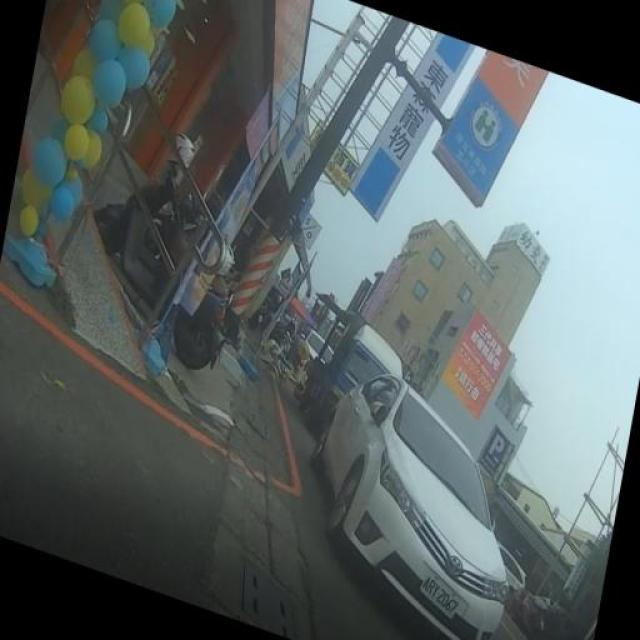Legalparking: (302, 283, 531, 637)
